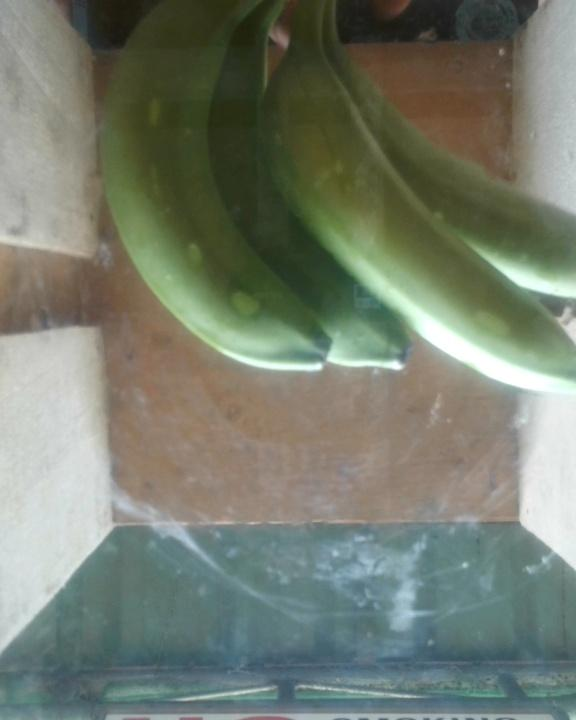SPOT: (89, 1, 575, 408)
